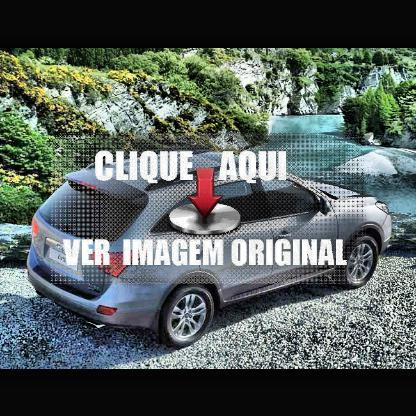Hyundai Veracruz SUV 2012: (29, 151, 394, 349)
